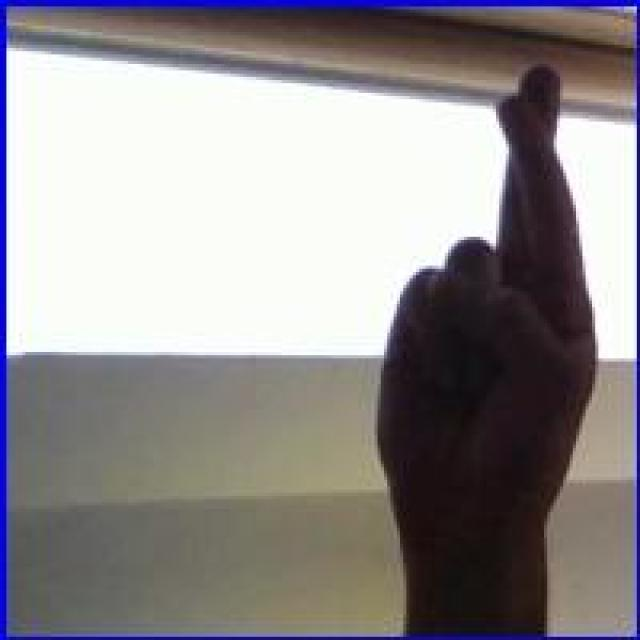R: (366, 48, 610, 563)
